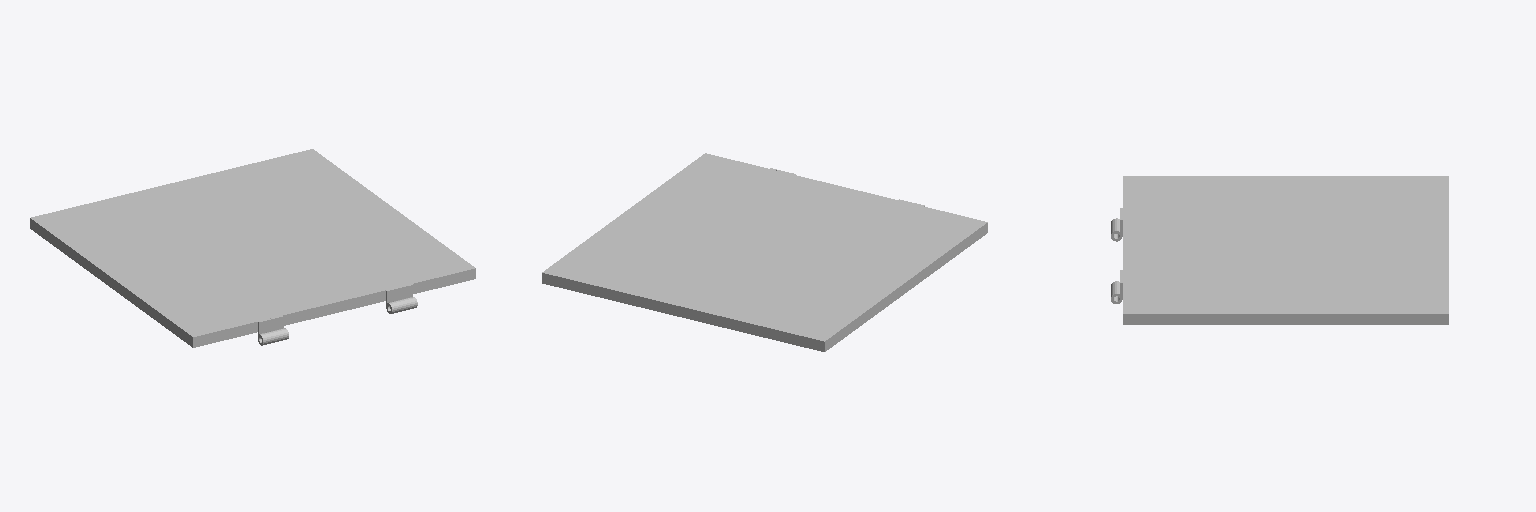
The model's file is couvercle_boite.obj.
The picture shows the model from 3 angles: view 1: azimuth 30°, elevation 25°; view 2: azimuth 150°, elevation 25°; view 3: azimuth 270°, elevation 25°; orthographic projection.
Parts seen in each view (by area): view 1: Couvercle; view 2: Couvercle; view 3: Couvercle.
Boxes of the visible parts, x1,y1,x2,y2 form: Couvercle: [30, 149, 475, 347]; Couvercle: [542, 153, 987, 351]; Couvercle: [1111, 176, 1448, 324].
Bounding box in the file's own units: 550 × 40 × 570.